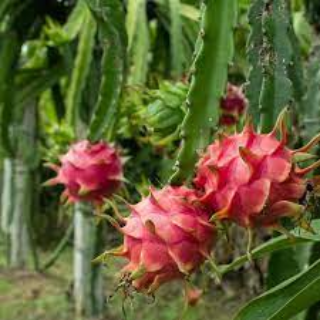thanh_long: (197, 132, 311, 229), (114, 192, 218, 293), (62, 145, 124, 204)
